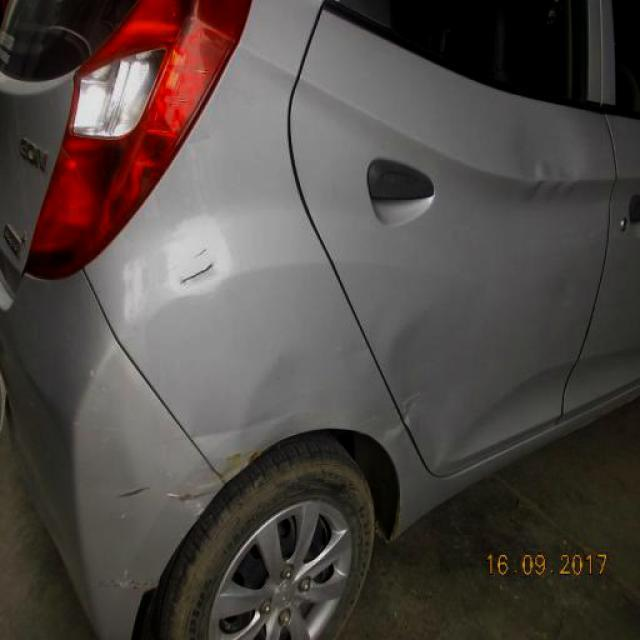car damage: (229, 361, 304, 448), (165, 450, 261, 505), (167, 239, 236, 299), (357, 387, 427, 444), (527, 156, 584, 208), (114, 480, 153, 508)
